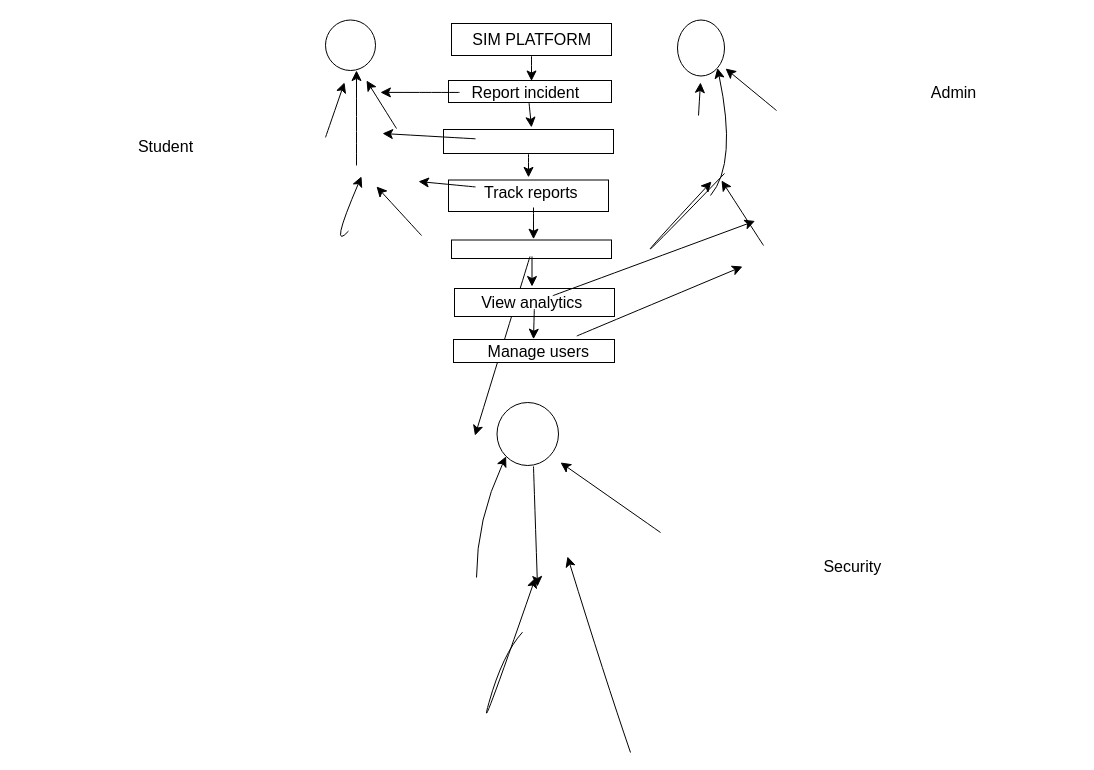
The diagram is 1094 pixels wide and 770 high, and some of its shapes have lost their labels. Here are the shapes that lost their labels. From the top down, the box of each, then its label:
(442, 128, 614, 154): View map
(450, 239, 612, 258): Manage report
